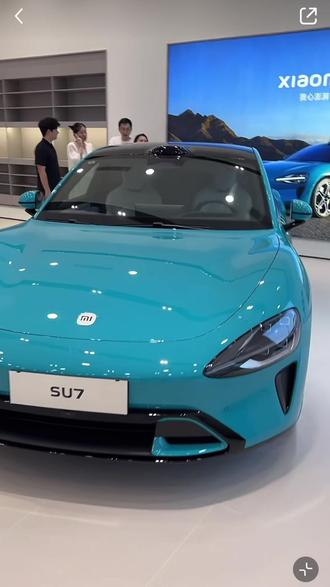su7: (0, 142, 317, 469)
